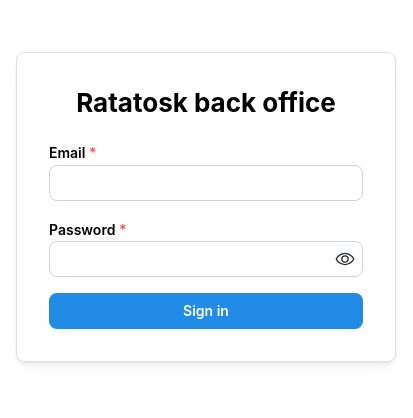
Test: App › shows "Invalid email or password." for bad credentials
The width and height of the screenshot is (413, 418).
In the field labelled "Email *": (206, 182) [49,164,363,200], type "admin@factory.test"
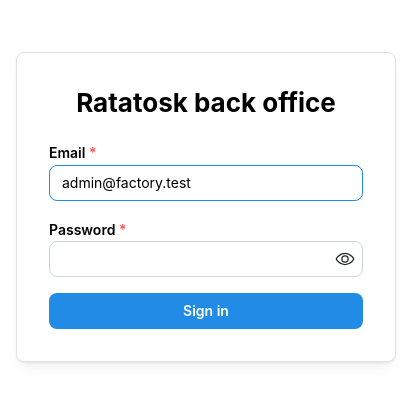
In the password field labelled "Password *": (206, 259) [50,242,362,276], type "wrong-password"
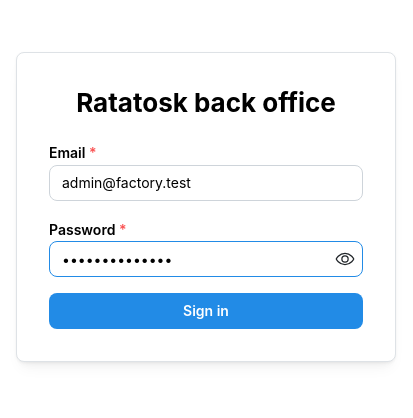
Click the button "Sign in": (206, 311) [49,293,363,329]
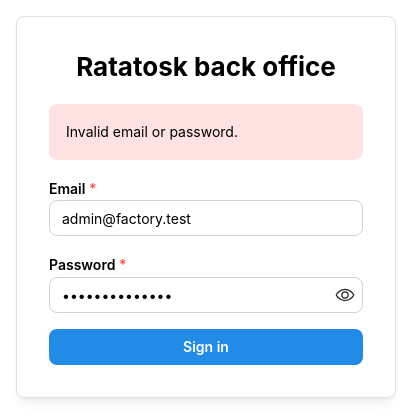
Now the message reads "Invalid email or password.", box [66,123,238,140]
